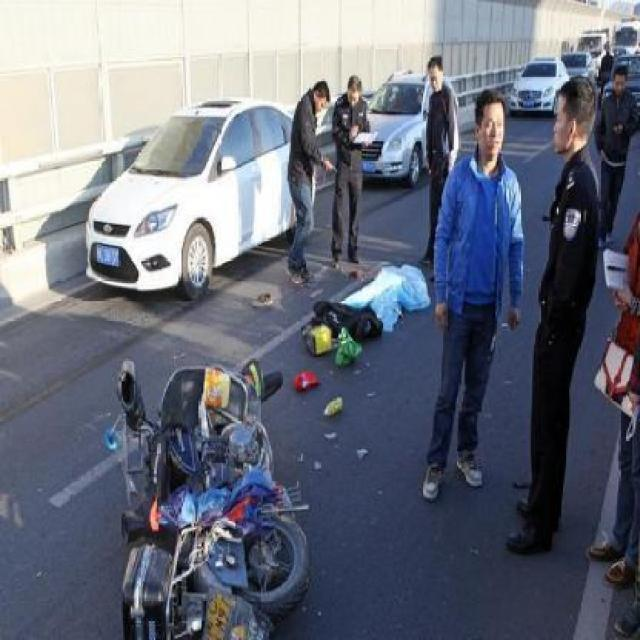garbage: (275, 257, 430, 434)
